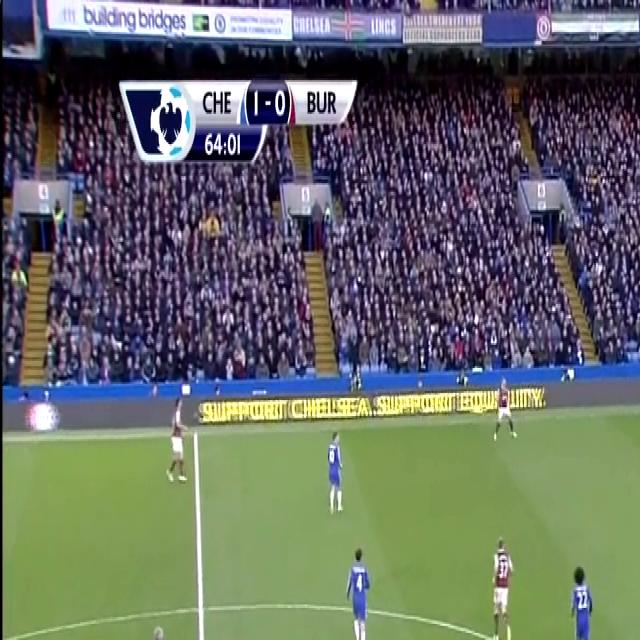referee: (138, 613, 180, 640)
soccer-player: (484, 522, 519, 640), (345, 535, 383, 640), (563, 554, 599, 640), (324, 421, 351, 521), (166, 398, 192, 493), (486, 371, 516, 449)
